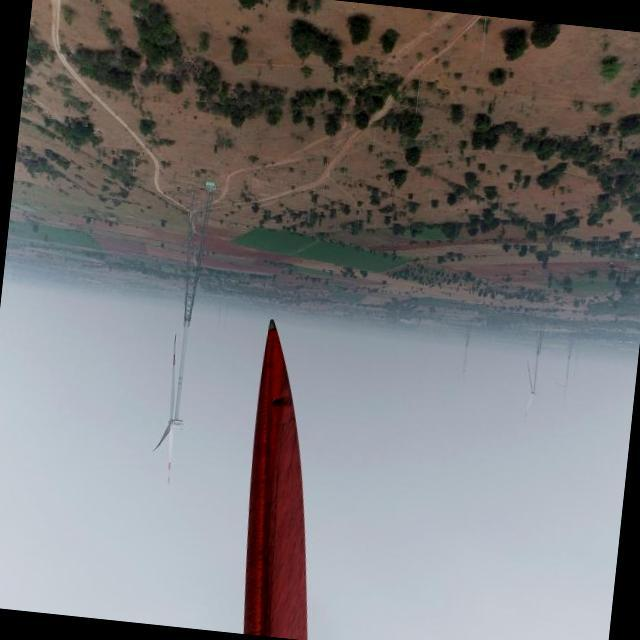Dirt: (246, 322, 310, 640)
